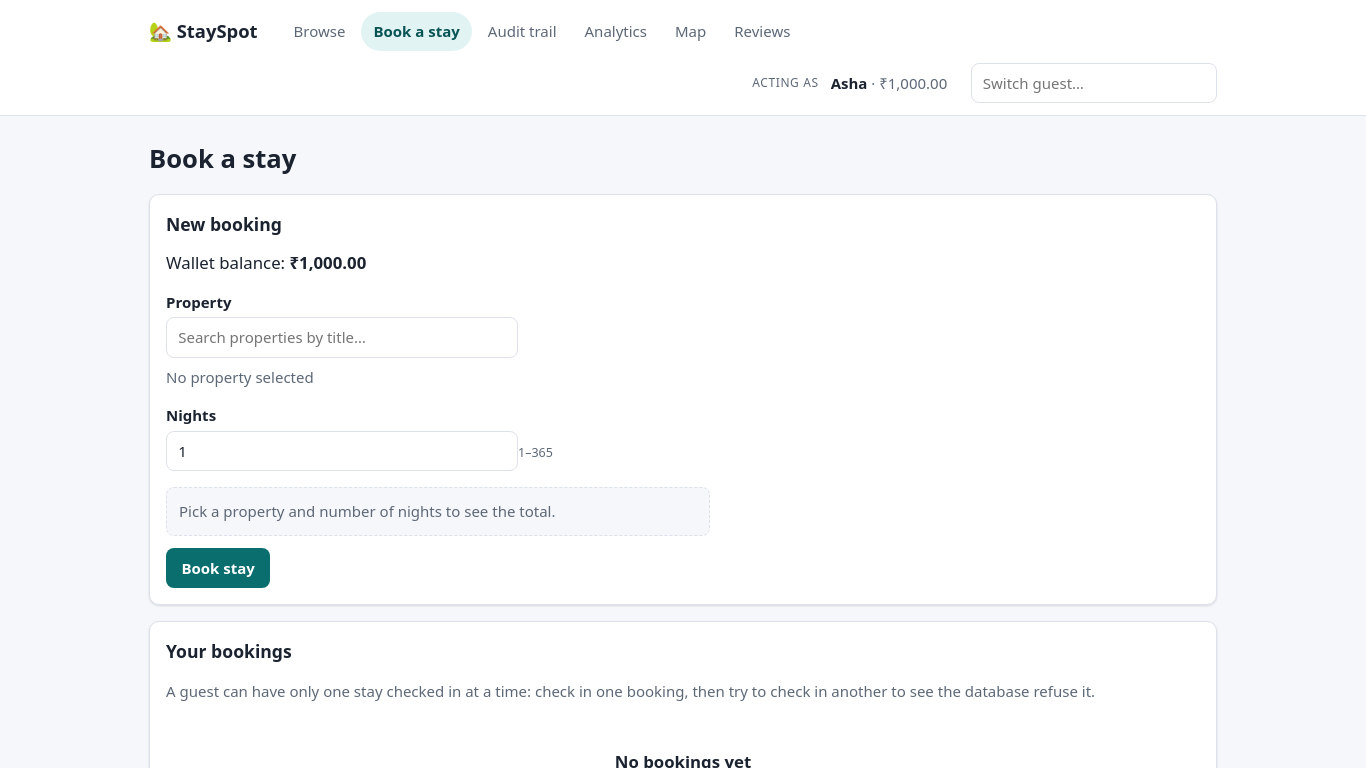
Test case: Book a stay › restores the saved guest, validates, estimates and books
Expected: the text "Wallet balance: ₹1,000.00" is shown, [166,251,366,274]
Click the button "Book stay": (218, 568) [166,548,270,588]
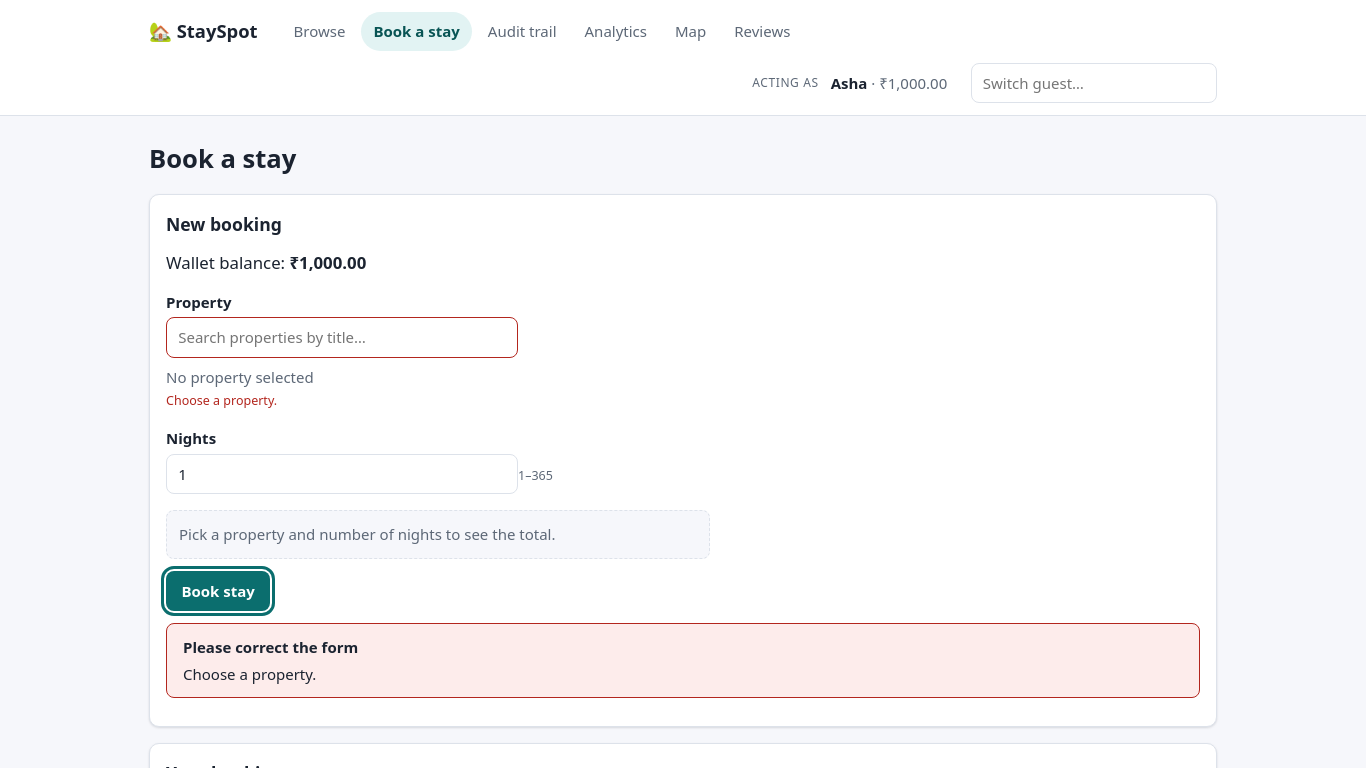
Expected: the text "Please correct the form" is shown, [183,637,358,657]
Click the dropdown with placeholder "Search properties by title…": (342, 338) [166,318,518,358]
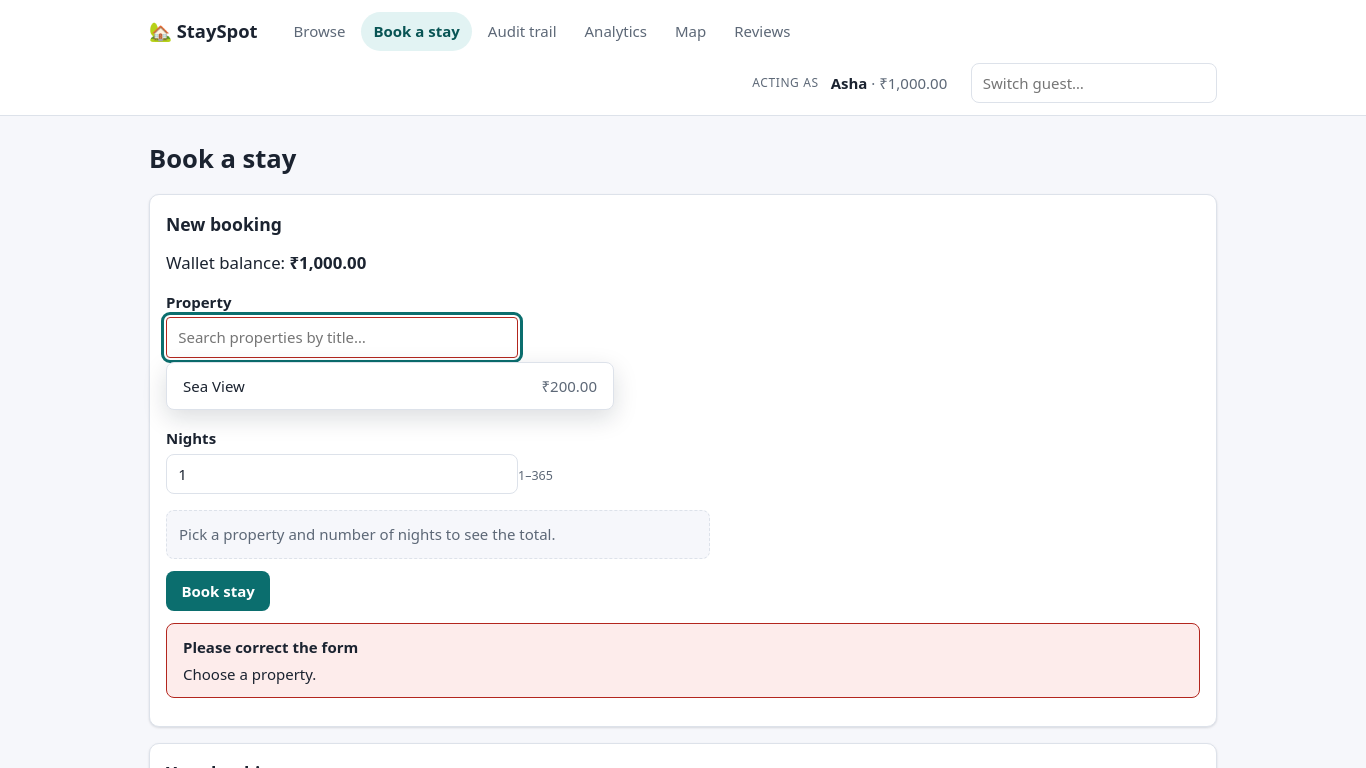
Click the button "Sea View ₹200.00": (214, 386) [171,367,609,406]
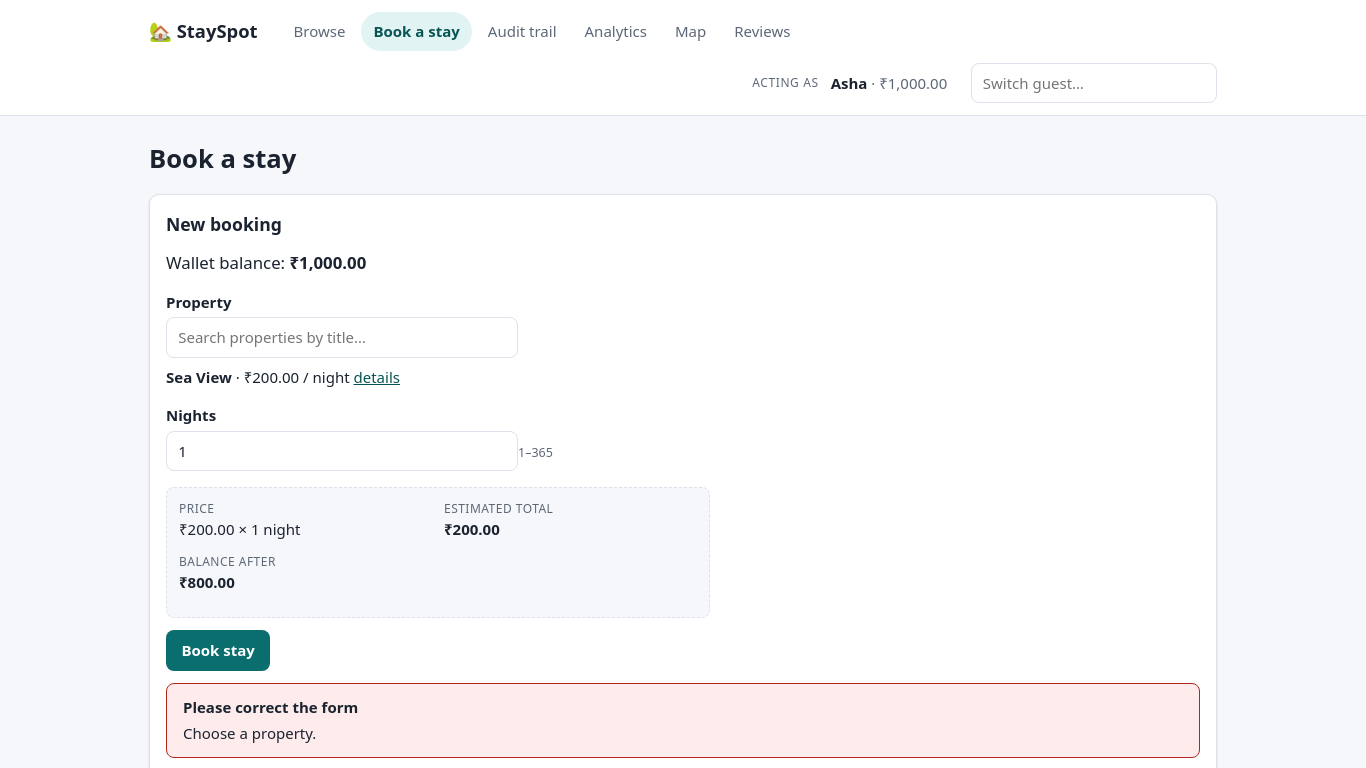
Replace the text in the number field labelled "Nights" with "2": (342, 451) [166,431,518,472]
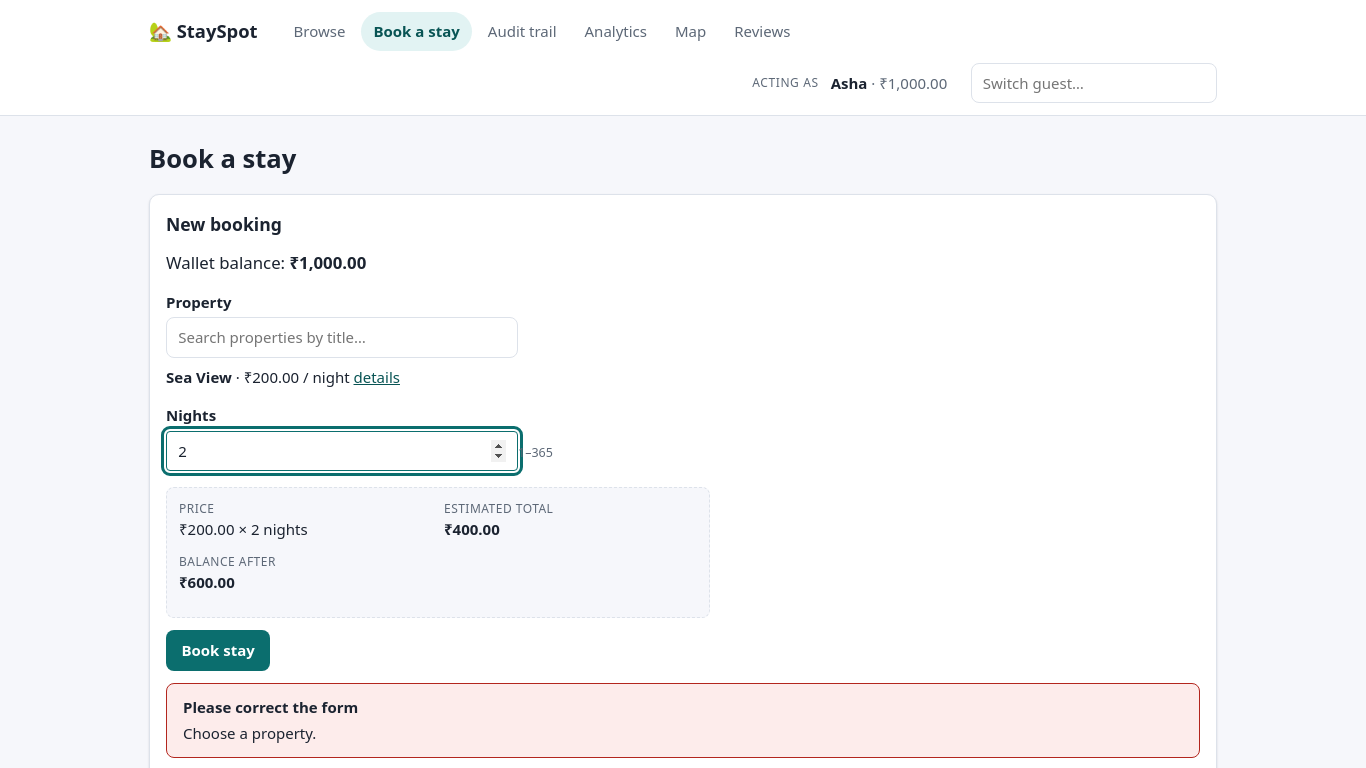
Expected: the element showing "₹400.00" is shown, [444,520,500,540]
Click the button "Book stay": (218, 651) [166,630,270,671]
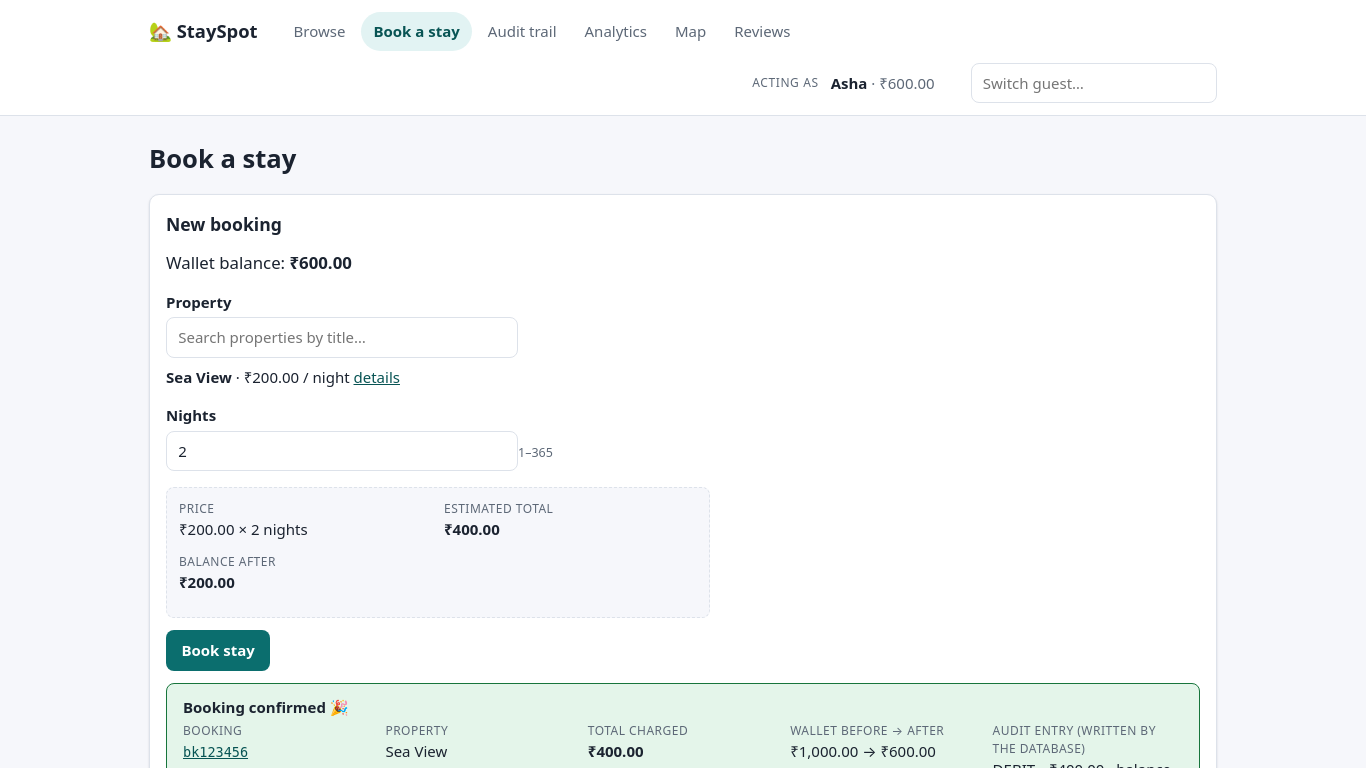
Expected: the text "Booking confirmed 🎉" is shown, [183,697,348,717]
Expected: the text "₹1,000.00 → ₹600.00" is shown, [790,742,936,762]
Expected: the element showing "Asha · ₹600.00" is shown, [831,72,935,92]
